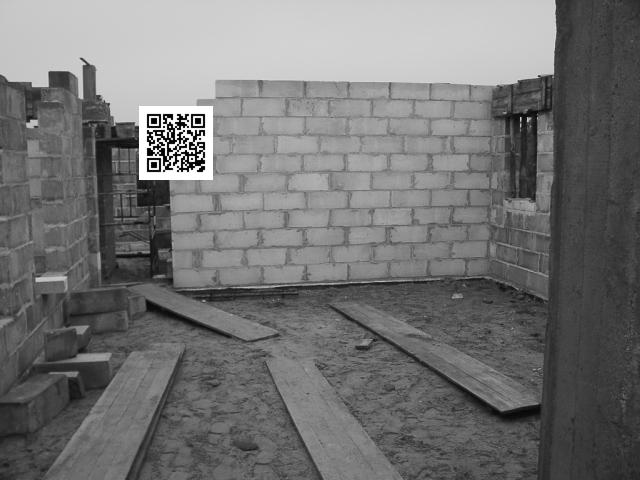qr_code: (138, 105, 213, 181)
